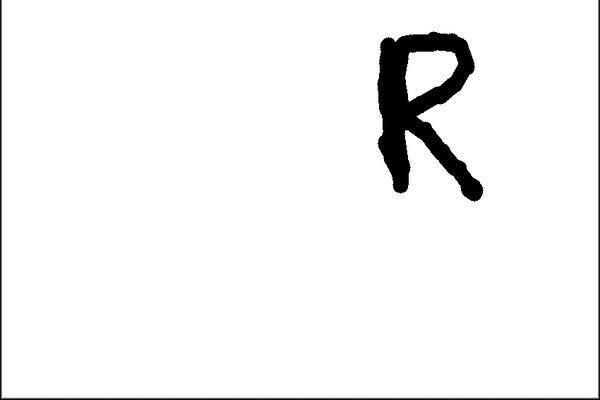R: (364, 22, 490, 213)
